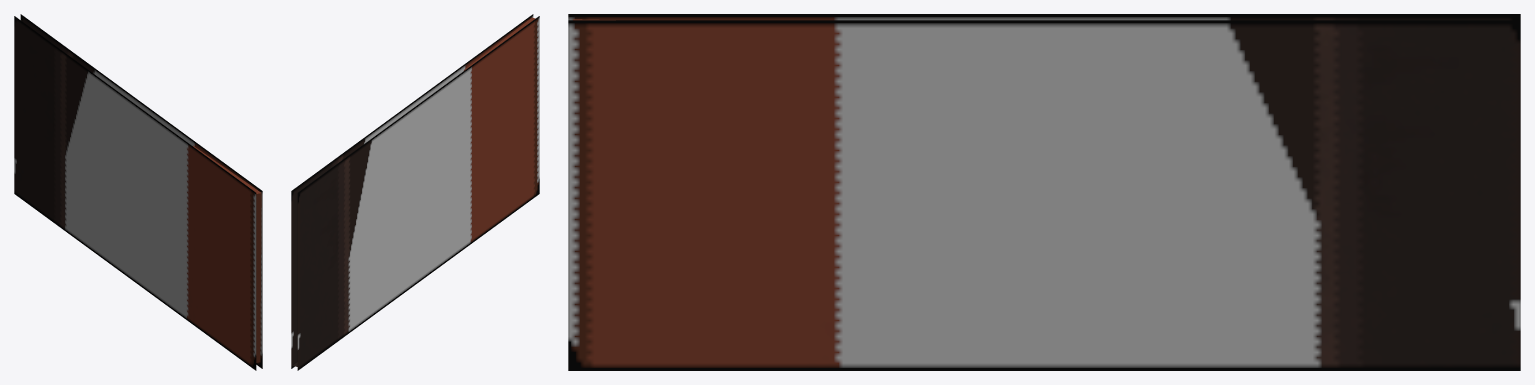
Rendered from pz_native_location_restaurant_seahorse_01_36_frame.obj.
The picture shows the model from 3 angles, left to right: view 1: azimuth 30°, elevation 25°; view 2: azimuth 150°, elevation 25°; view 3: azimuth 270°, elevation 25°; orthographic projection. The views are drawn at different scales.
Parts seen in each view (by area): view 1: pz_native_location_restaurant_seahorse_01_36_frame; view 2: pz_native_location_restaurant_seahorse_01_36_frame; view 3: pz_native_location_restaurant_seahorse_01_36_frame.
Part boxes in pixels (<box>): pz_native_location_restaurant_seahorse_01_36_frame: <box>14,14,262,370</box>; pz_native_location_restaurant_seahorse_01_36_frame: <box>291,14,539,370</box>; pz_native_location_restaurant_seahorse_01_36_frame: <box>568,14,1520,370</box>.
Bounding box in the file's own units: 0.04 × 1.03 × 2.54.
1 material, 1 textured.
